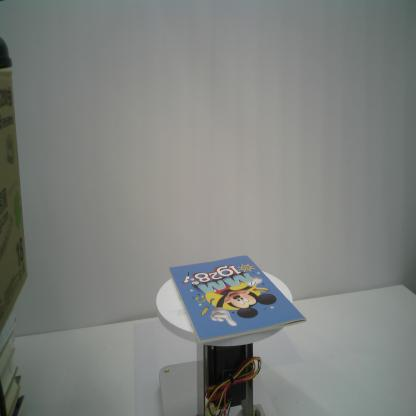Stationery: (169, 255, 307, 344)
